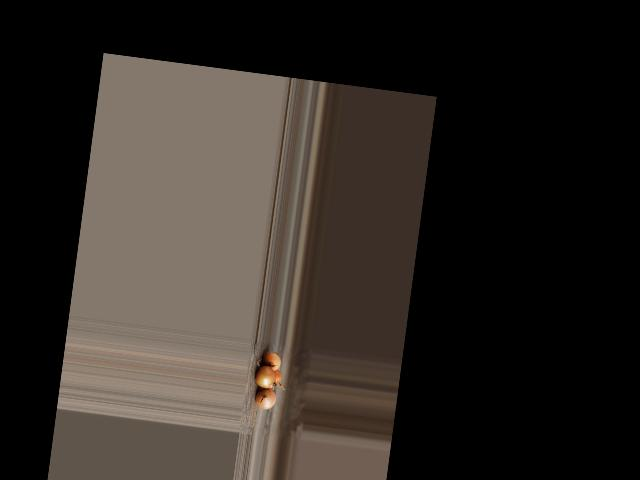onion: (266, 366, 283, 387)
